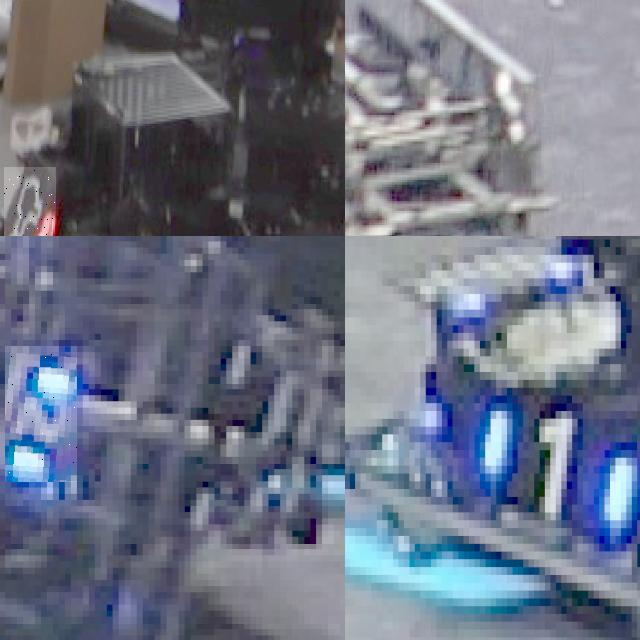B1: (466, 380, 629, 544)
B2: (5, 346, 77, 482)
Rs: (3, 166, 56, 236)
